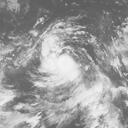cyclone: (43, 48, 80, 84)
